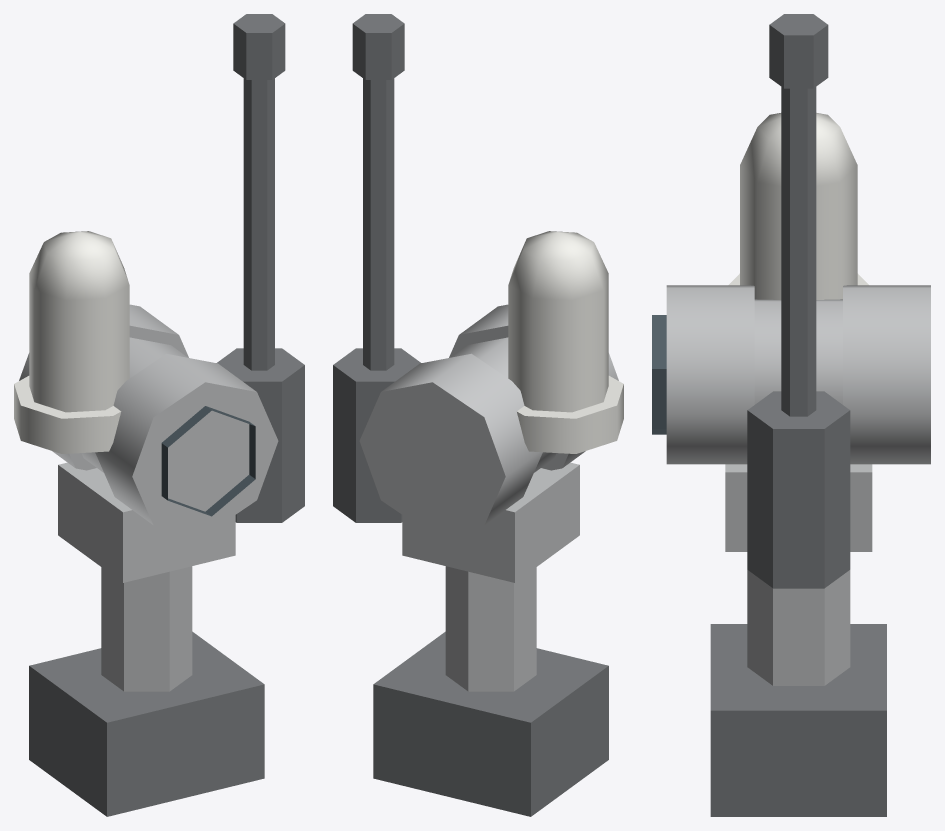
File: sensor_surface_lite.glb
3 renders of one model, left to right at view 1: azimuth 30°, elevation 25°; view 2: azimuth 150°, elevation 25°; view 3: azimuth 270°, elevation 25°, orthographic. The views are drawn at different scales.
Visible parts, largest first — view 1: SENSOR_KIT_steel_dark, SENSOR_KIT_steel, SENSOR_KIT_light, SENSOR_KIT_glass; view 2: SENSOR_KIT_steel_dark, SENSOR_KIT_steel, SENSOR_KIT_light; view 3: SENSOR_KIT_steel_dark, SENSOR_KIT_steel, SENSOR_KIT_light, SENSOR_KIT_glass.
Boxes of the visible parts, left/top/right/bottom form: SENSOR_KIT_steel_dark: left=29, top=14, right=304, bottom=816; SENSOR_KIT_steel: left=19, top=304, right=278, bottom=691; SENSOR_KIT_light: left=14, top=231, right=129, bottom=453; SENSOR_KIT_glass: left=161, top=406, right=255, bottom=516; SENSOR_KIT_steel_dark: left=333, top=14, right=608, bottom=816; SENSOR_KIT_steel: left=359, top=304, right=618, bottom=691; SENSOR_KIT_light: left=508, top=231, right=623, bottom=453; SENSOR_KIT_steel_dark: left=710, top=14, right=886, bottom=816; SENSOR_KIT_steel: left=666, top=285, right=930, bottom=685; SENSOR_KIT_light: left=728, top=113, right=868, bottom=299; SENSOR_KIT_glass: left=652, top=315, right=666, bottom=434.
Size of the model in its own units: 0.2423 by 0.61 by 0.19.
